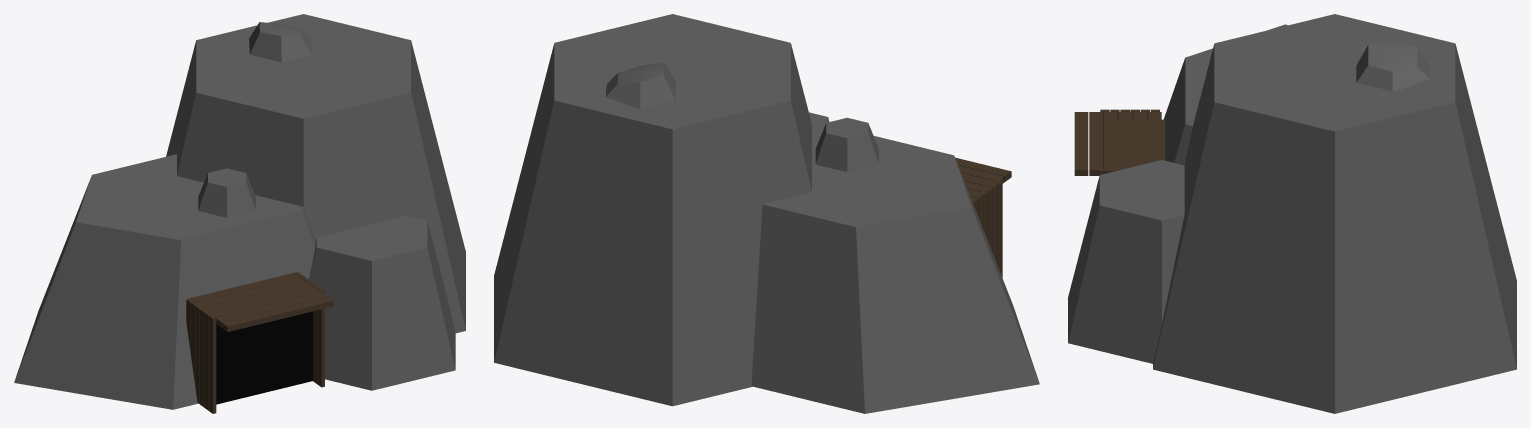
The model's file is Cave.fbx.
The picture shows the model from 3 angles, left to right: view 1: azimuth 30°, elevation 25°; view 2: azimuth 150°, elevation 25°; view 3: azimuth 270°, elevation 25°; orthographic projection. The views are drawn at different scales.
Parts seen in each view (by area): view 1: pCylinder271; view 2: pCylinder271; view 3: pCylinder271.
Boxes of the visible parts, x1,y1,x2,y2 form: pCylinder271: (14, 14, 465, 413); pCylinder271: (494, 14, 1039, 413); pCylinder271: (1068, 14, 1516, 413).
Bounding box in the file's own units: 126 × 62.49 × 92.01.
